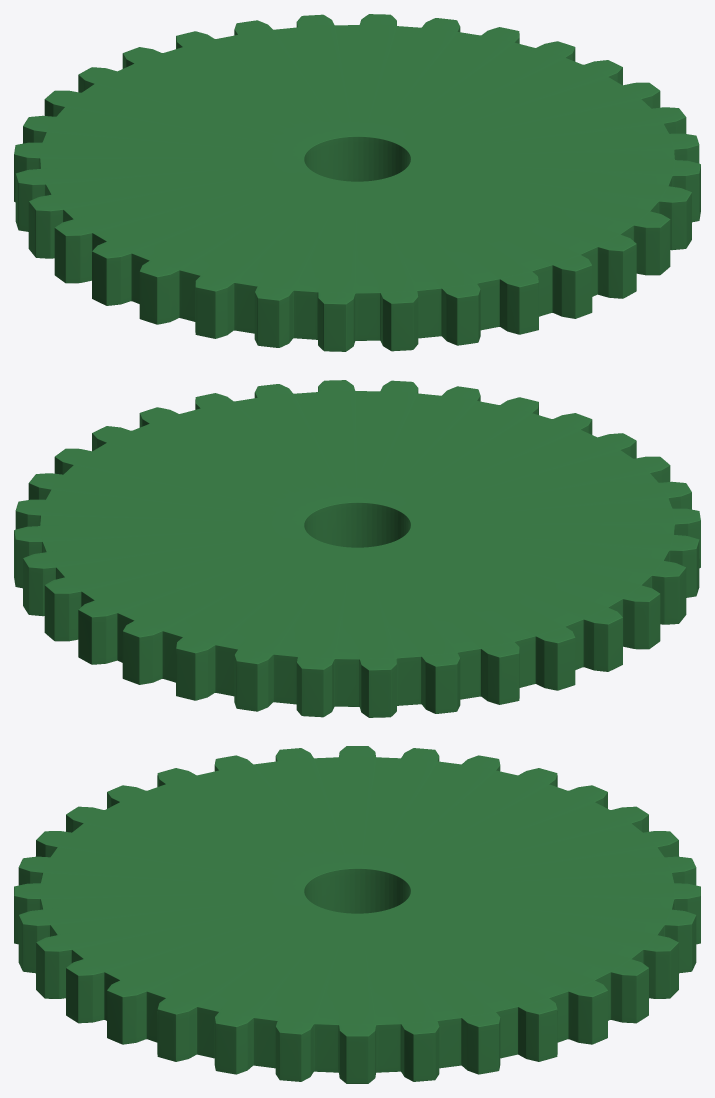
Rendered from Gear_30T.fbx.
3 renders of one model, top to bottom at view 1: azimuth 30°, elevation 25°; view 2: azimuth 150°, elevation 25°; view 3: azimuth 270°, elevation 25°, orthographic.
Visible parts, largest first — view 1: Gear_30T; view 2: Gear_30T; view 3: Gear_30T.
Boxes of the visible parts, x1,y1,x2,y2 form: Gear_30T: (14, 14, 700, 351); Gear_30T: (14, 380, 700, 717); Gear_30T: (14, 746, 700, 1083).
Bounding box in the file's own units: 12.94 × 1 × 12.94.
